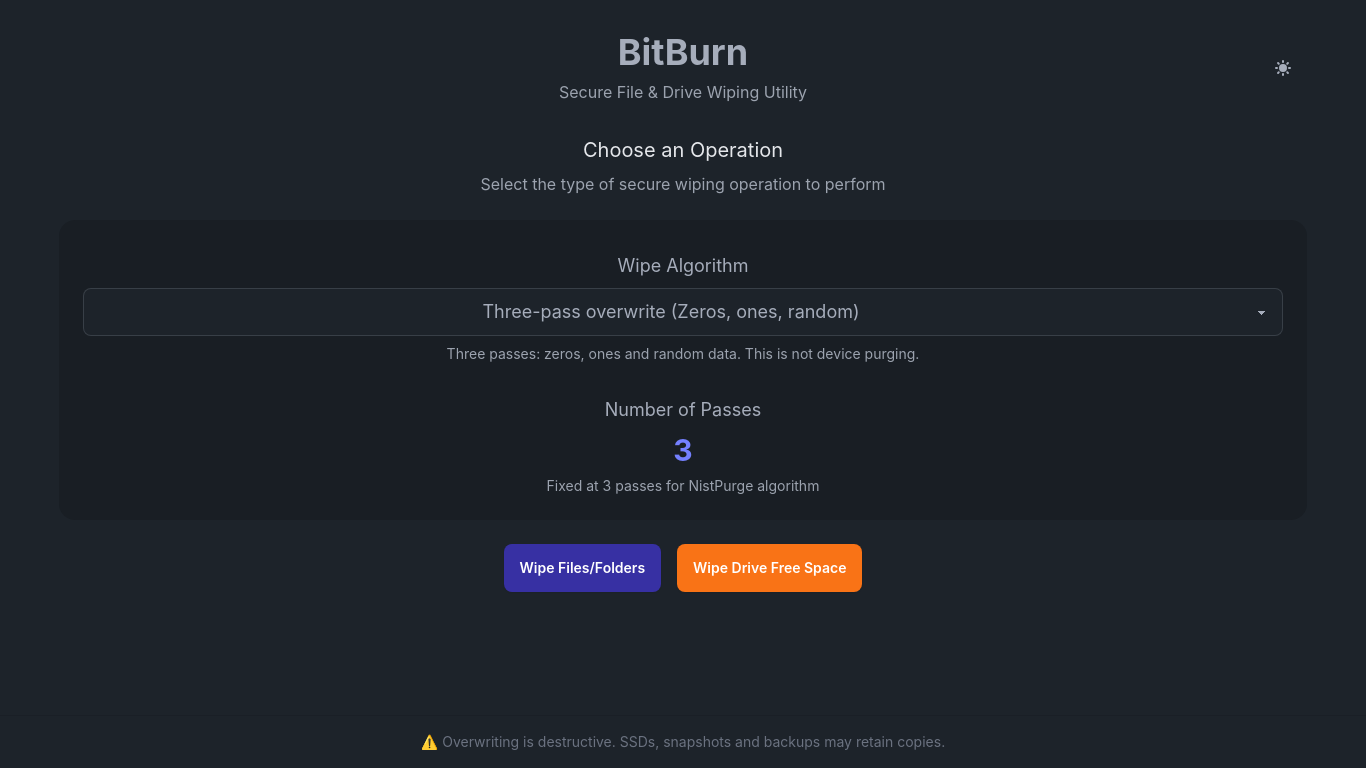
Test case: BitBurn UI Tests › File Selection › should display selected files
Click the button "Wipe Files/Folders" at (582, 568), box x1=504 y1=544 x2=661 y2=592
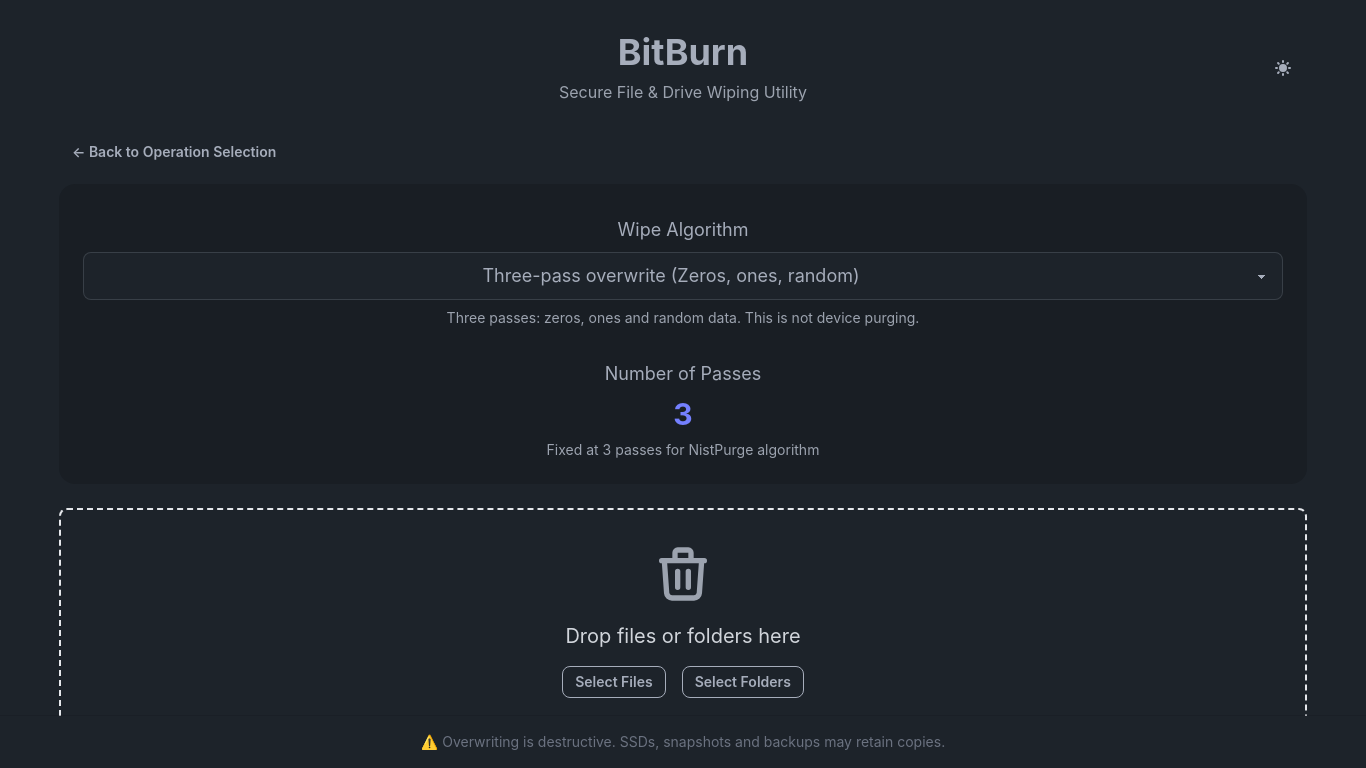
Click the button "Select Files" at (614, 682), box x1=562 y1=666 x2=666 y2=698
(page scrolled)
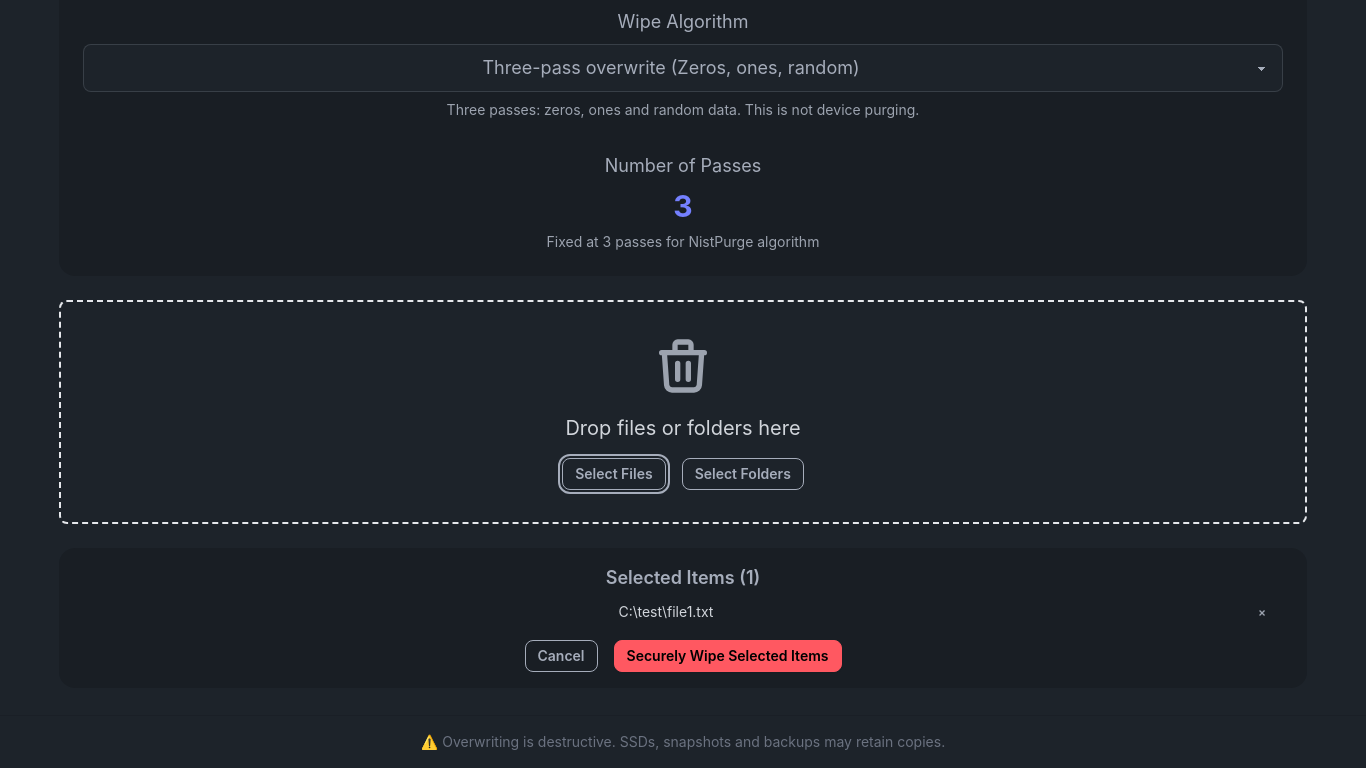
Now the text "C:\\test\\file1.txt" is shown, box x1=618 y1=603 x2=714 y2=620
